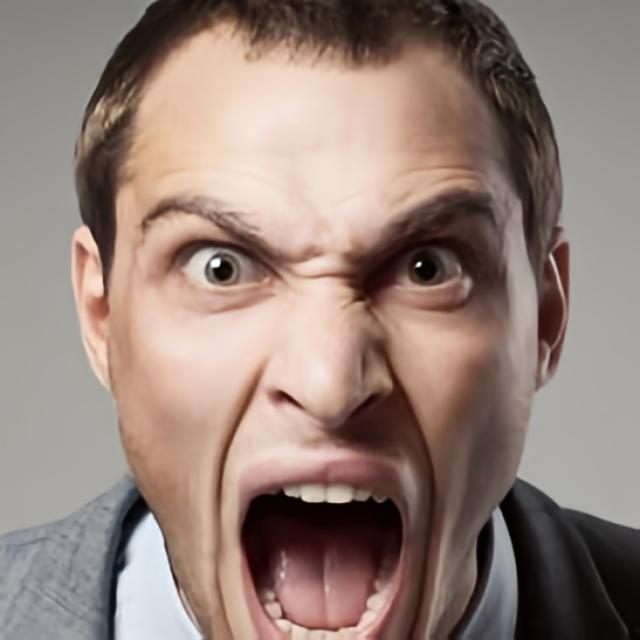anger: (117, 56, 542, 640)
